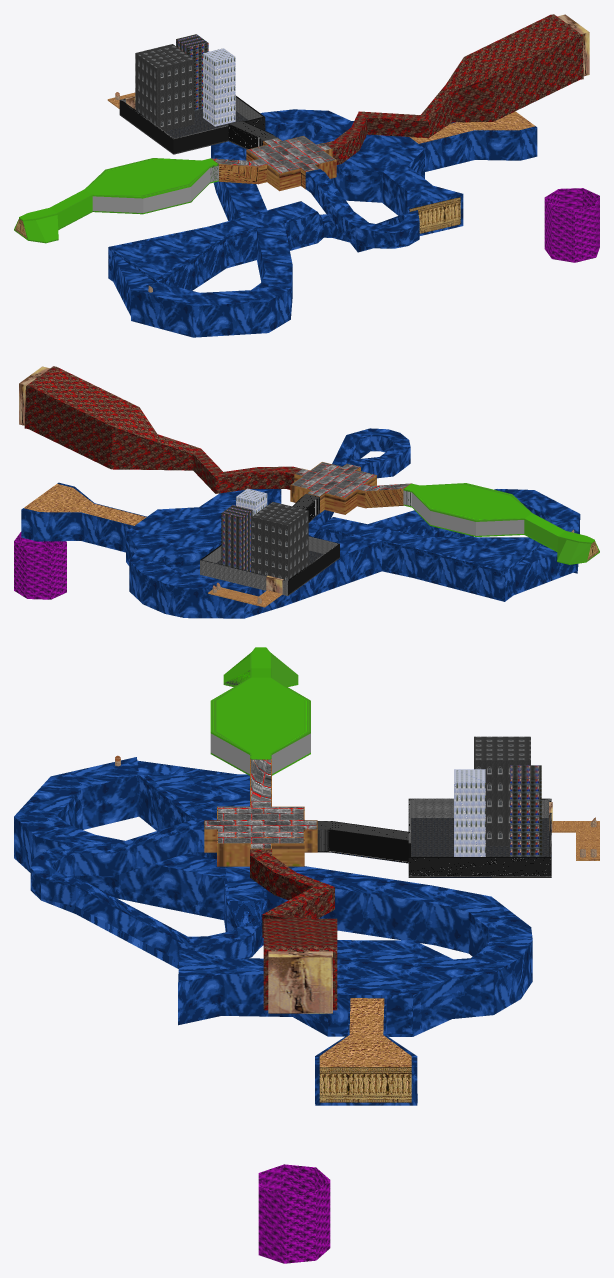
The model's file is room_final.glb.
The picture shows the model from 3 angles, top to bottom: view 1: azimuth 30°, elevation 25°; view 2: azimuth 150°, elevation 25°; view 3: azimuth 270°, elevation 25°; orthographic projection. The views are drawn at different scales.
Visible parts, largest first — view 1: WaterRealm, cave, Garden, building2, Room, City, Prison, building, building3, Monolith_cave_purple; view 2: WaterRealm, cave, Garden, Room, building2, City, Prison, building3, citySecretRoom, building, Monolith_cave_purple; view 3: WaterRealm, City, Garden, Room, cave, Prison, Monolith_cave_purple, building2, building3, building, citySecretRoom.
Part boxes in pixels (<box>): WaterRealm: <box>108,109,537,337</box>; cave: <box>324,14,583,164</box>; Garden: <box>14,158,218,243</box>; building2: <box>135,44,194,131</box>; Room: <box>211,136,336,191</box>; City: <box>119,95,276,154</box>; Prison: <box>544,188,599,262</box>; building: <box>203,48,235,126</box>; building3: <box>176,34,208,110</box>; Monolith_cave_purple: <box>557,14,589,76</box>; WaterRealm: <box>21,428,580,618</box>; cave: <box>24,366,301,493</box>; Garden: <box>403,483,599,564</box>; Room: <box>290,462,410,514</box>; building2: <box>252,502,308,580</box>; City: <box>200,494,339,595</box>; Prison: <box>14,532,66,599</box>; building3: <box>221,505,252,571</box>; citySecretRoom: <box>208,587,282,607</box>; building: <box>236,488,267,515</box>; Monolith_cave_purple: <box>19,366,49,425</box>; WaterRealm: <box>14,757,532,1105</box>; City: <box>317,798,551,877</box>; Garden: <box>210,647,310,775</box>; Room: <box>204,759,317,866</box>; cave: <box>250,849,337,1010</box>; Prison: <box>258,1164,330,1263</box>; Monolith_cave_purple: <box>268,951,332,1013</box>; building2: <box>474,736,530,846</box>; building3: <box>510,765,541,856</box>; building: <box>454,769,485,856</box>; citySecretRoom: <box>551,821,599,860</box>.
Size of the model in its own units: 133 by 48.59 by 86.55.
40 materials, 40 textured.
